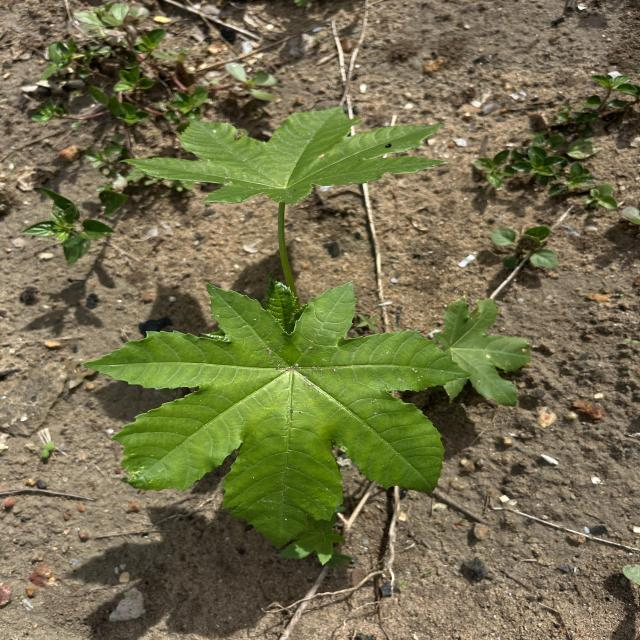Ricinus communis linn: (74, 276, 477, 554)
